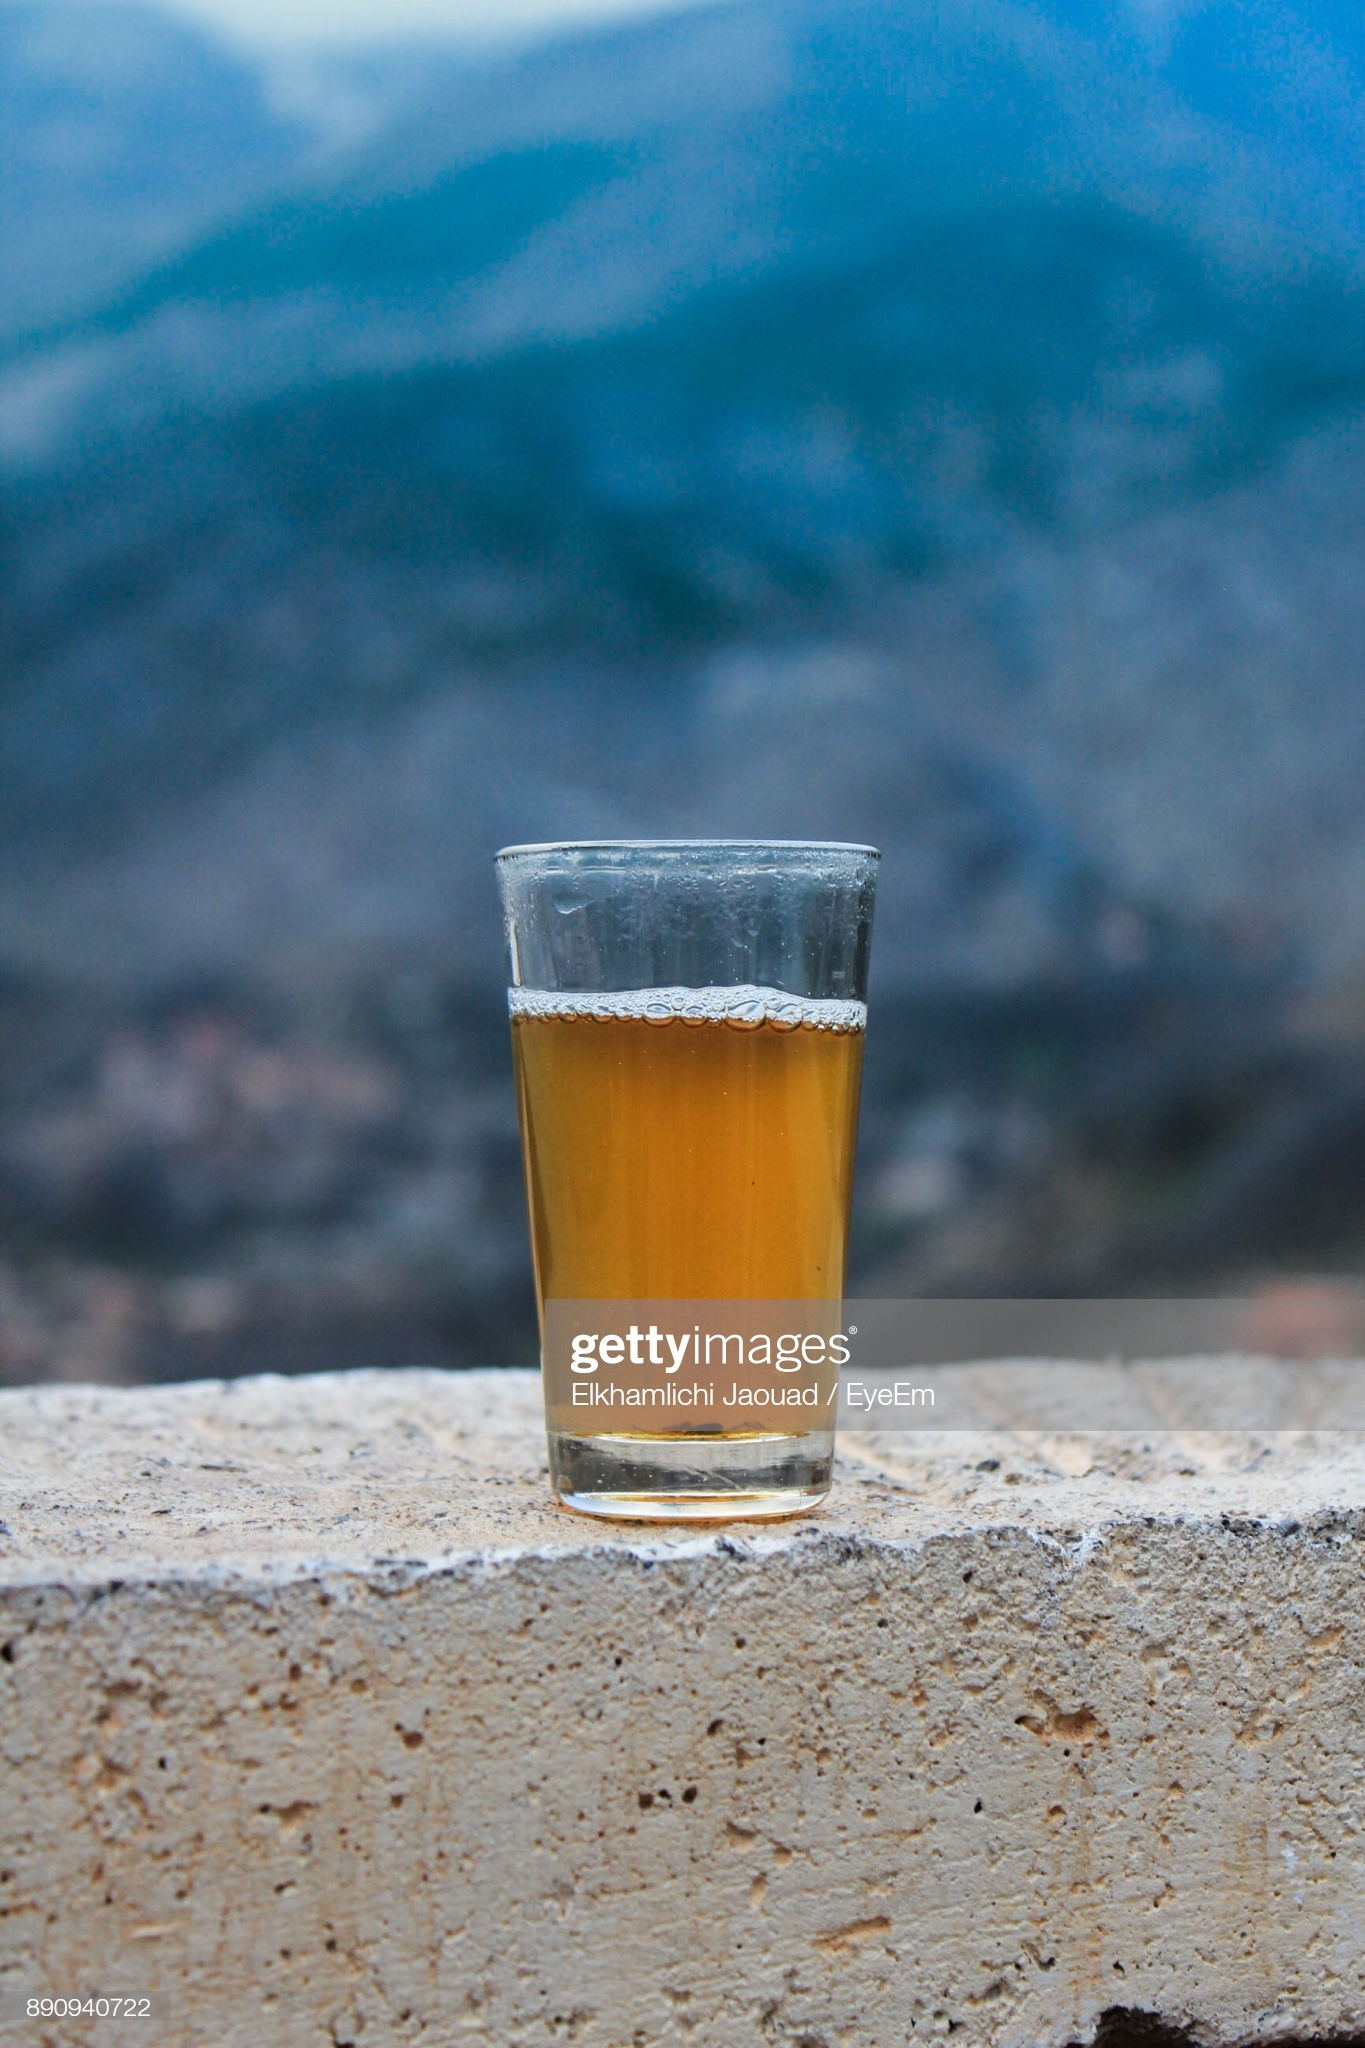glassBeer: (524, 825, 861, 1523)
